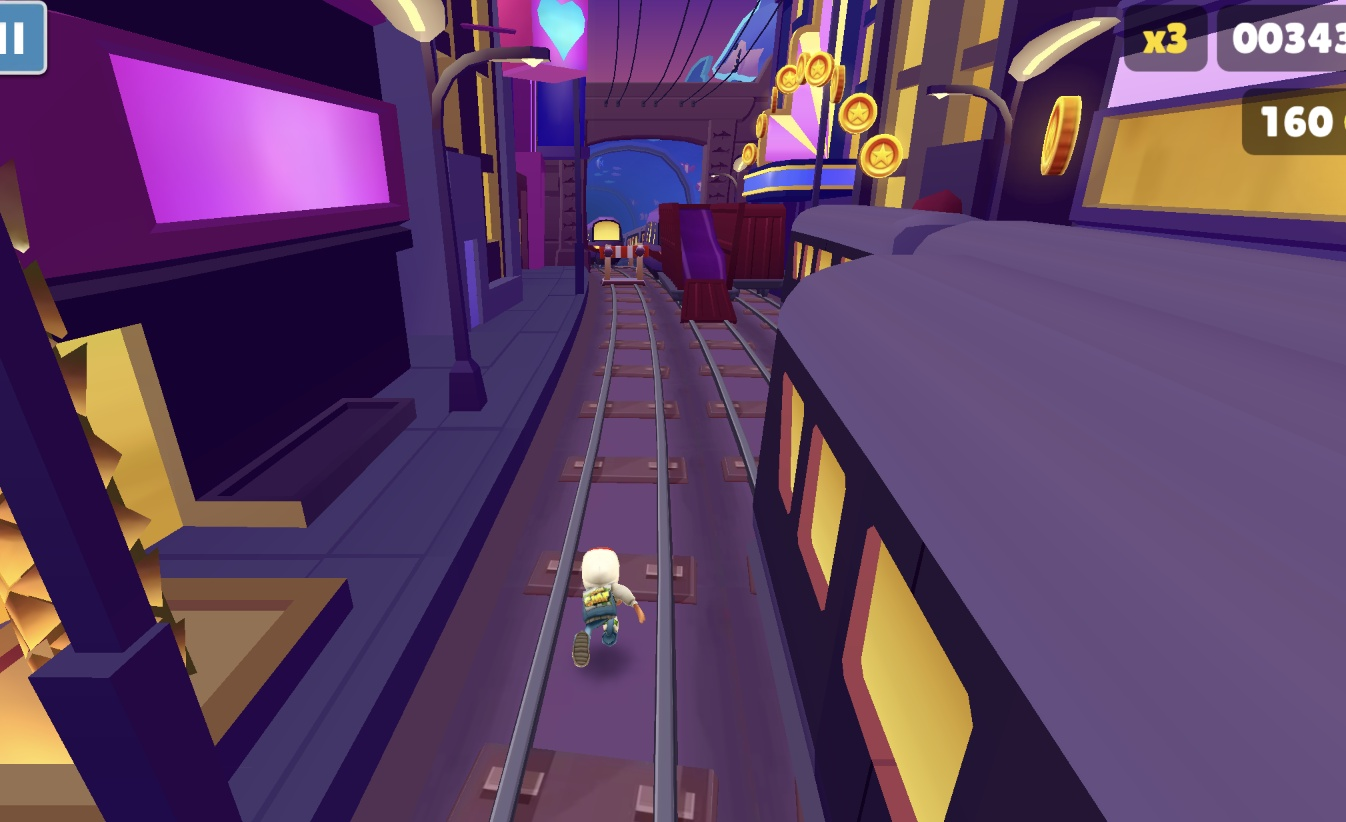ground_barrier: (590, 245, 646, 286)
train: (751, 202, 1346, 822), (655, 202, 741, 327), (711, 202, 786, 292), (588, 218, 622, 264)
